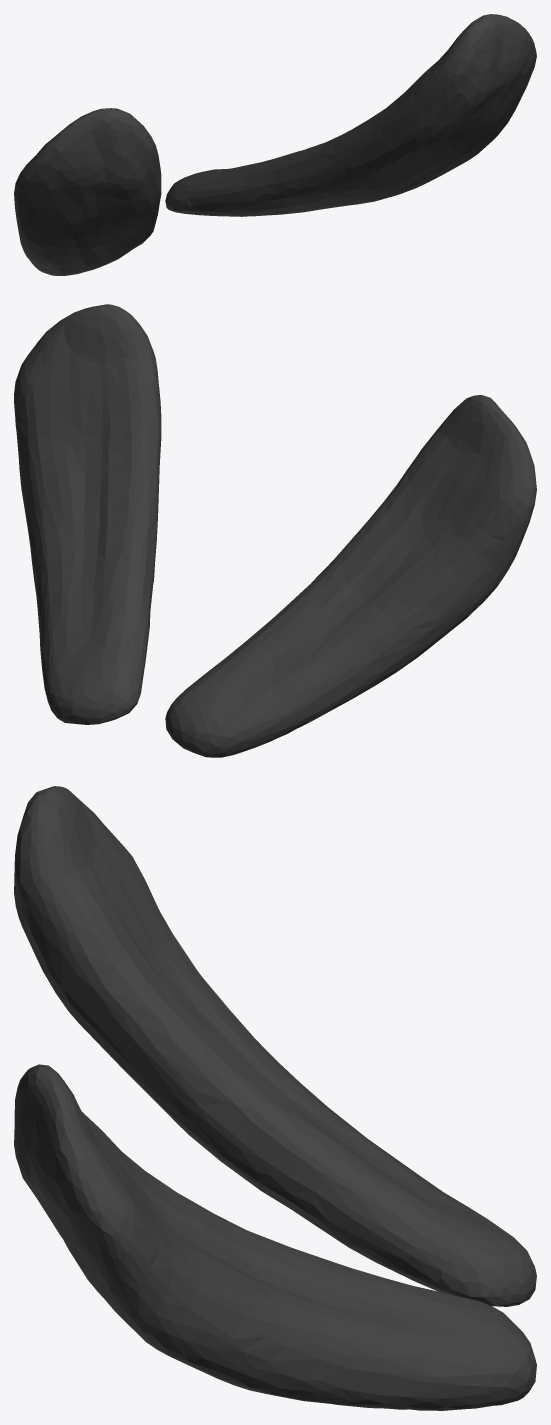
Rendered from m_levator_anguli_oculi_medialis.glb.
The picture shows the model from 3 angles, top to bottom: view 1: azimuth 30°, elevation 25°; view 2: azimuth 150°, elevation 25°; view 3: azimuth 270°, elevation 25°; orthographic projection. The views are drawn at different scales.
Parts seen in each view (by area): view 1: m_levator_anguli_oculi_medialis; view 2: m_levator_anguli_oculi_medialis; view 3: m_levator_anguli_oculi_medialis.
Part boxes in pixels (x1,y1,x2,y2): m_levator_anguli_oculi_medialis: (14, 14, 536, 275); m_levator_anguli_oculi_medialis: (14, 304, 536, 757); m_levator_anguli_oculi_medialis: (14, 786, 536, 1410).
Bounding box in the file's own units: 0.00114 × 0.000577 × 0.000664.
1 material, 1 textured.
